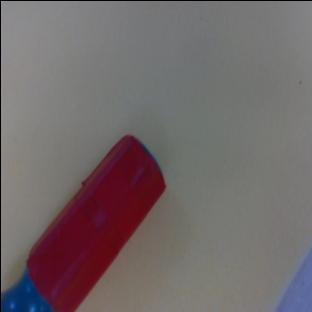part_2_good: (0, 127, 177, 312)
